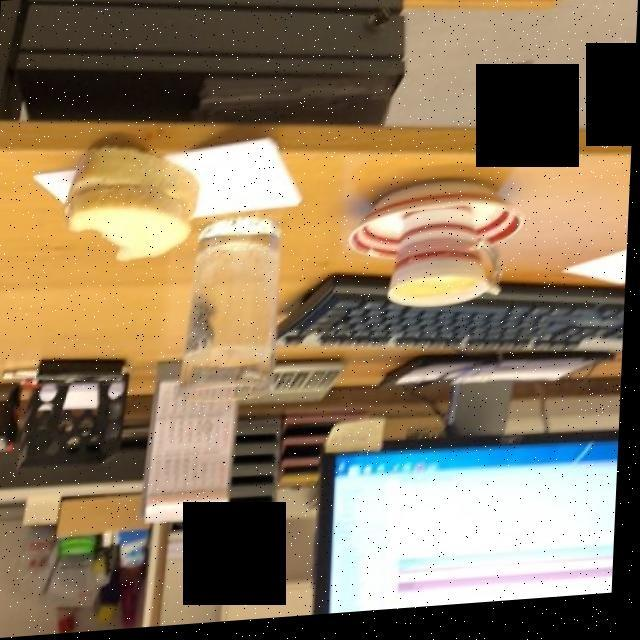bread: (58, 146, 210, 267)
espresso: (415, 283, 487, 310)
water: (187, 235, 272, 371)
